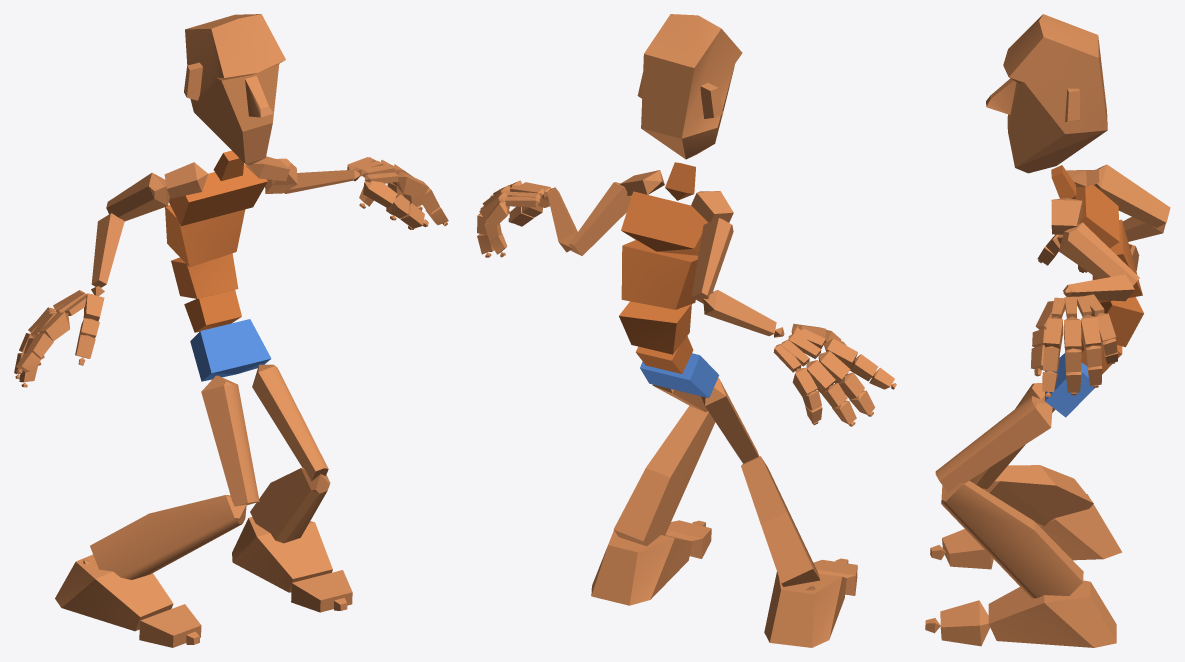
Rendered from prueba64.obj.
3 views of the same model, side by side, from view 1: azimuth 30°, elevation 25°; view 2: azimuth 150°, elevation 25°; view 3: azimuth 270°, elevation 25° (orthographic). The views are drawn at different scales.
Visible parts, largest first — view 1: BOPED_Head, BOPED_R_leg, BOPED_R_foot, BOPED_R_foot01, BOPED_R_legup, BOPED_L_leg, Bone01, BOPED_L_legup, Bone04, Bone05, Bone03, BOPED_R_arm_upper (+9 smaller); view 2: BOPED_Head, BOPED_L_leg, BOPED_R_foot01, BOPED_R_foot, BOPED_R_leg, Bone04, Bone05, Bone03, BOPED_R_arm_upper, BOPED_L_arm_upper, Bone01, BOPED_R_legup (+8 smaller); view 3: BOPED_Head, BOPED_L_leg, BOPED_R_foot01, BOPED_L_legup, BOPED_R_leg, BOPED_R_foot, BOPED_L_arm_upper, BOPED_R_arm_upper, BOPED_R_foot_toe04, Bone05, BOPED_R_foot_toe01, Bone01 (+14 smaller).
Boxes of the visible parts, left/top/right/bottom form: BOPED_Head: left=184, top=14, right=285, bottom=164; BOPED_R_leg: left=90, top=495, right=246, bottom=579; BOPED_R_foot: left=55, top=554, right=173, bottom=631; BOPED_R_foot01: left=232, top=517, right=332, bottom=592; BOPED_R_legup: left=201, top=375, right=259, bottom=506; BOPED_L_leg: left=250, top=467, right=330, bottom=543; Bone01: left=190, top=319, right=271, bottom=381; BOPED_L_legup: left=252, top=364, right=328, bottom=481; Bone04: left=165, top=205, right=245, bottom=267; Bone05: left=169, top=164, right=267, bottom=226; Bone03: left=171, top=253, right=238, bottom=298; BOPED_R_arm_upper: left=106, top=172, right=169, bottom=221; BOPED_Head: left=637, top=14, right=742, bottom=159; BOPED_L_leg: left=613, top=406, right=715, bottom=546; BOPED_R_foot01: left=591, top=530, right=692, bottom=605; BOPED_R_foot: left=764, top=572, right=846, bottom=647; BOPED_R_leg: left=741, top=456, right=820, bottom=586; Bone04: left=621, top=240, right=698, bottom=309; Bone05: left=621, top=191, right=708, bottom=255; Bone03: left=619, top=301, right=691, bottom=354; BOPED_R_arm_upper: left=691, top=218, right=733, bottom=303; BOPED_L_arm_upper: left=569, top=182, right=631, bottom=255; Bone01: left=640, top=353, right=719, bottom=397; BOPED_R_legup: left=701, top=378, right=759, bottom=463; BOPED_Head: left=986, top=14, right=1107, bottom=173; BOPED_L_leg: left=941, top=481, right=1083, bottom=598; BOPED_R_foot01: left=988, top=580, right=1116, bottom=647; BOPED_L_legup: left=935, top=396, right=1052, bottom=492; BOPED_R_leg: left=983, top=465, right=1093, bottom=526; BOPED_R_foot: left=1039, top=494, right=1122, bottom=560; BOPED_L_arm_upper: left=1058, top=222, right=1139, bottom=285; BOPED_R_arm_upper: left=1094, top=164, right=1170, bottom=227; BOPED_R_foot_toe04: left=940, top=600, right=990, bottom=646; Bone05: left=1075, top=185, right=1119, bottom=248; BOPED_R_foot_toe01: left=942, top=529, right=993, bottom=569; Bone01: left=1045, top=353, right=1094, bottom=417.
Bounding box in the file's own units: 130 × 167 × 63.3.
